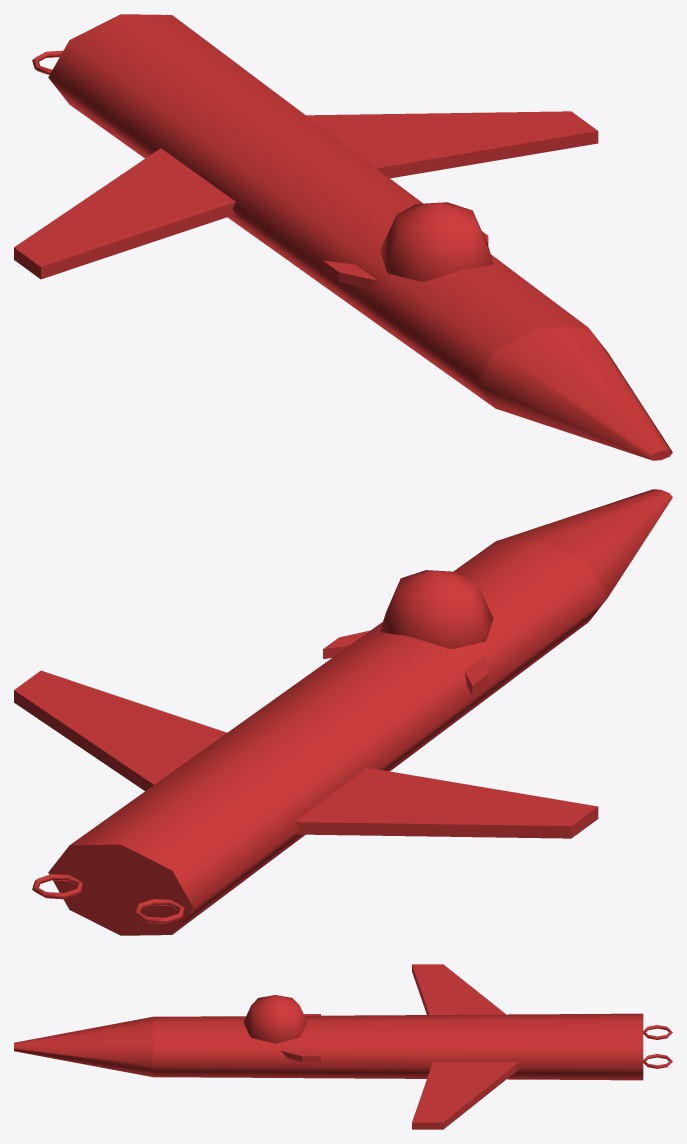
The model's file is fighter-canard-303.glb.
The picture shows the model from 3 angles, top to bottom: view 1: azimuth 30°, elevation 25°; view 2: azimuth 150°, elevation 25°; view 3: azimuth 270°, elevation 25°; orthographic projection. The views are drawn at different scales.
Size of the model in its own units: 1.13 by 0.2579 by 1.99.
